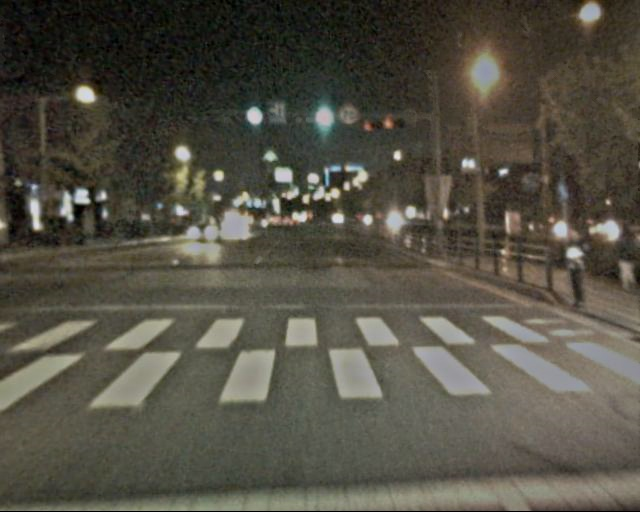person: (550, 225, 594, 315), (601, 220, 640, 298)
